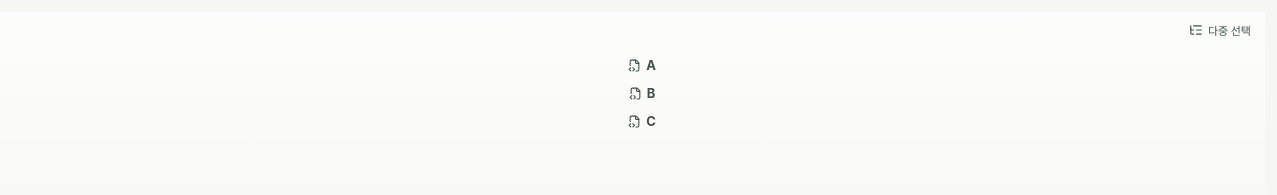
Test case: VaultFileTree multi-select UI › clears the selection when selection mode is closed
This screenshot has width=1277, height=195.
Click the button "다중 선택". click: (1220, 30)
box: [1181,15,1259,45]
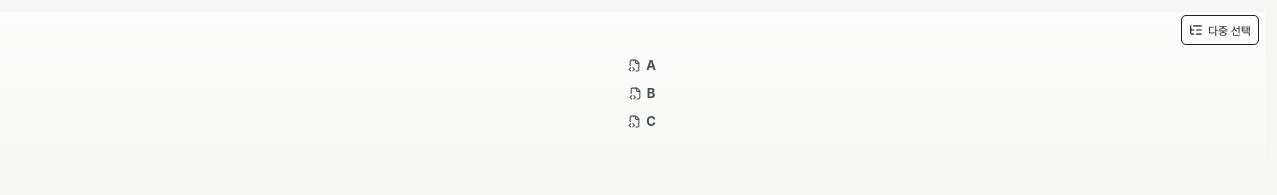
Click the list item "A". click: (632, 65)
box: [5,51,1260,79]
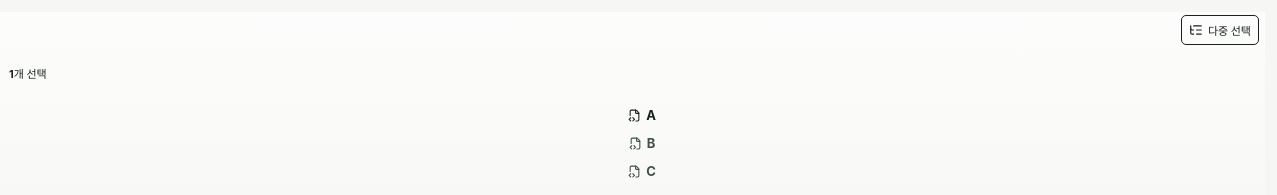
Expected: the list item "A" is selected, [5,101,1260,129]
Click the button "다중 선택". click: (1220, 30)
box: [1181,15,1259,45]
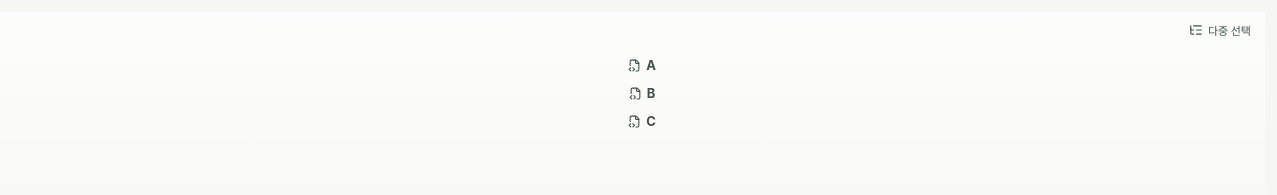
Expected: the text "개 선택" is gone
